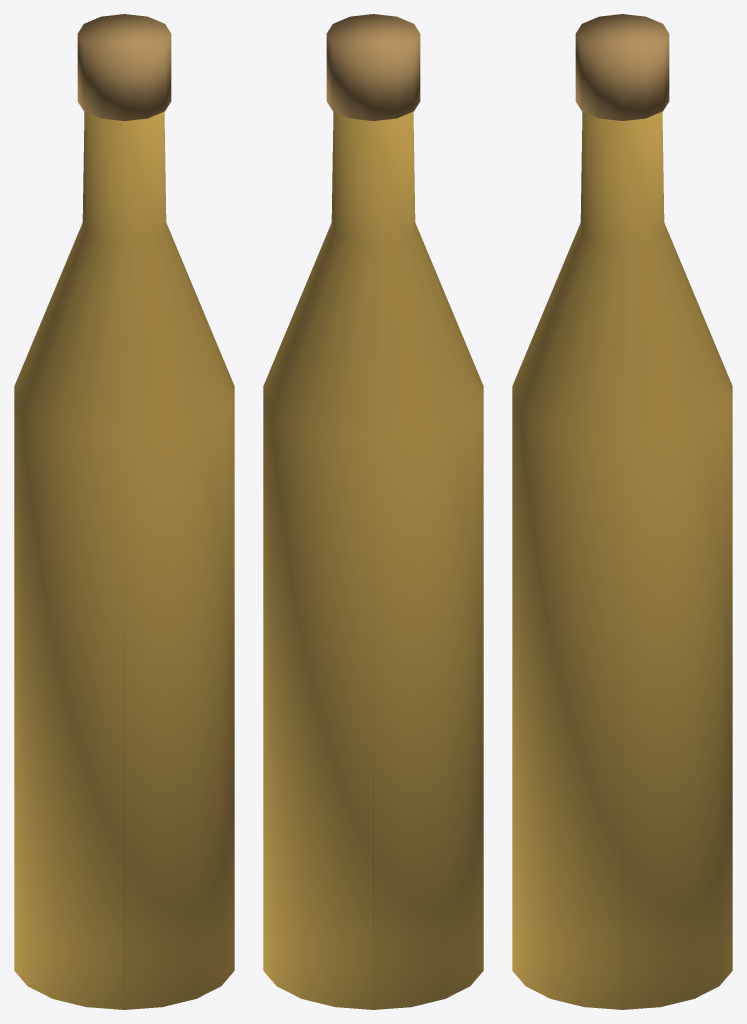
File: i_bottle_2.glb
3 renders of one model, left to right at view 1: azimuth 30°, elevation 25°; view 2: azimuth 150°, elevation 25°; view 3: azimuth 270°, elevation 25°, orthographic.
Parts seen in each view (by area): view 1: o, o.001; view 2: o, o.001; view 3: o, o.001.
Boxes of the visible parts, x1,y1,x2,y2 form: o: (14,111,234,1009); o.001: (77,14,171,120); o: (263,111,483,1009); o.001: (326,14,420,120); o: (512,111,732,1009); o.001: (575,14,669,120).
Size of the model in its own units: 0.06 by 0.2753 by 0.0591.
